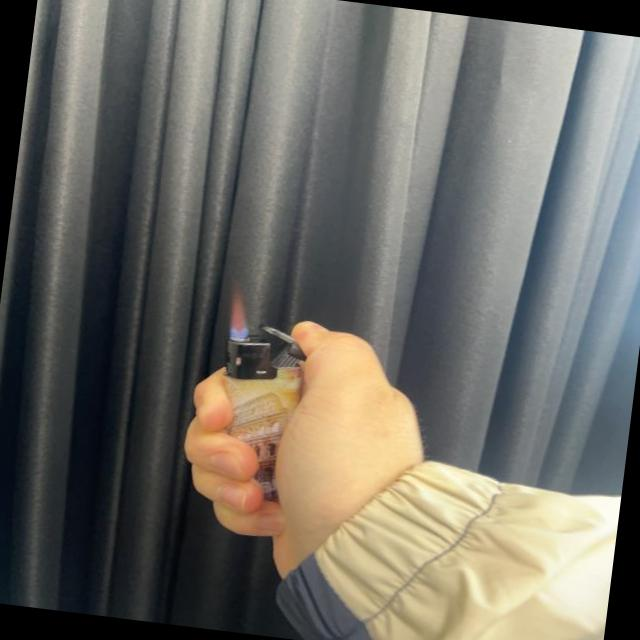Fire: (223, 277, 255, 339)
